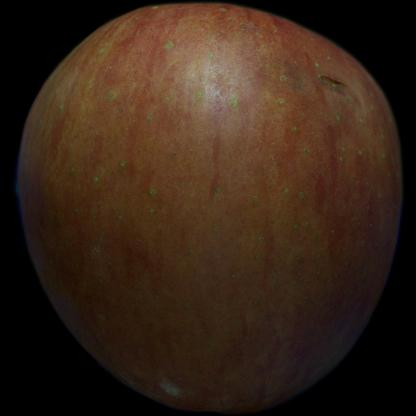defect: (298, 61, 366, 117)
